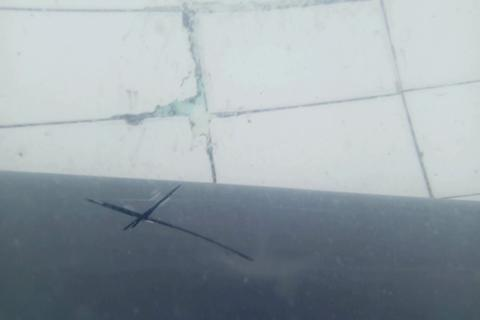keretakan: (81, 183, 257, 264)
